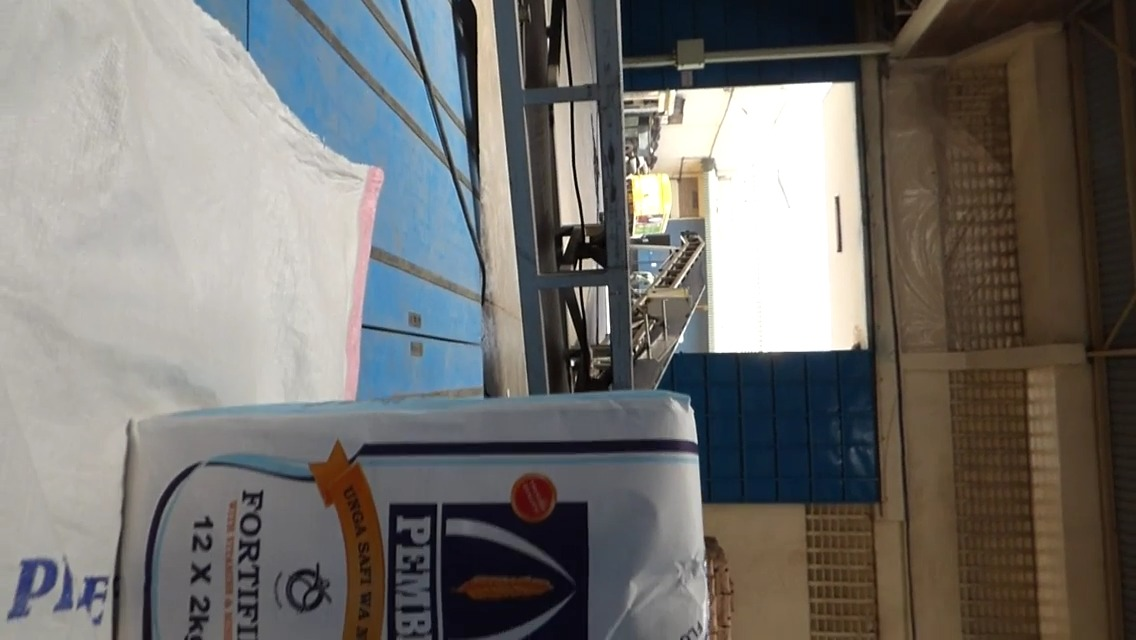wheat_flour_blue_label: (131, 393, 708, 637)
